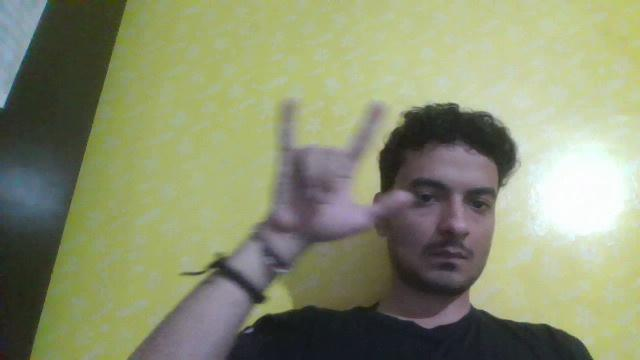Loveyou: (246, 79, 439, 263)
